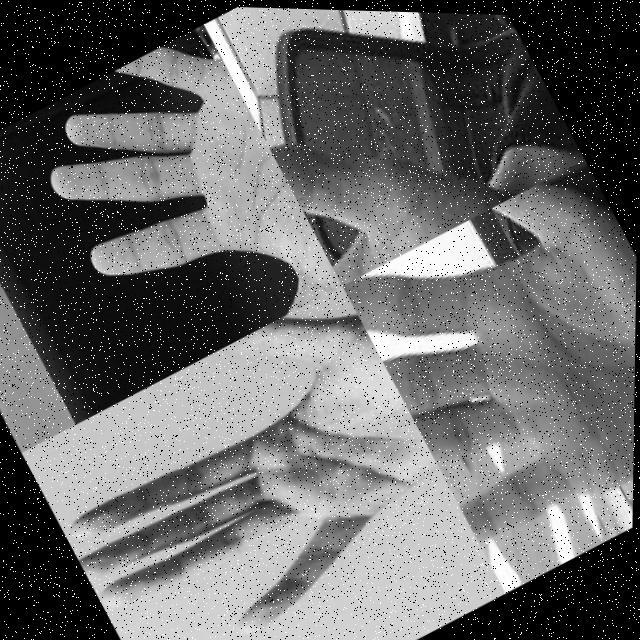no-gloves: (19, 277, 470, 640), (6, 19, 346, 391), (340, 150, 638, 558), (243, 6, 558, 288)
